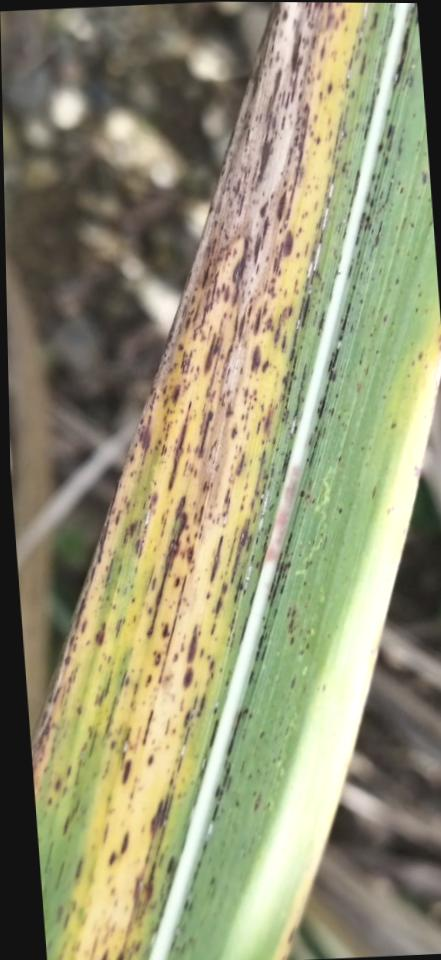RedRot: (262, 465, 303, 564)
Rust: (114, 798, 164, 960), (182, 763, 232, 910), (300, 157, 339, 329), (144, 510, 187, 637), (138, 793, 173, 920), (316, 301, 350, 421), (250, 67, 282, 193), (156, 574, 188, 685), (283, 102, 310, 231), (165, 400, 192, 494), (175, 692, 198, 773), (254, 463, 275, 546), (390, 25, 413, 93), (230, 237, 252, 308), (287, 362, 307, 440), (203, 332, 223, 409), (228, 518, 250, 584), (218, 314, 238, 381), (280, 355, 298, 423), (222, 710, 242, 769), (288, 295, 305, 363), (191, 289, 210, 344), (361, 86, 379, 140), (60, 796, 82, 838), (265, 551, 282, 602), (208, 534, 224, 584), (330, 110, 344, 165), (317, 175, 331, 230), (197, 410, 213, 458), (289, 55, 304, 105), (290, 18, 303, 75), (268, 561, 284, 607), (138, 415, 151, 467), (103, 694, 119, 736), (252, 449, 266, 497), (170, 495, 186, 536), (336, 102, 349, 152), (118, 725, 132, 770), (356, 3, 369, 48), (241, 552, 254, 596), (306, 429, 320, 469), (343, 43, 355, 89), (140, 708, 154, 747), (303, 249, 315, 294), (348, 168, 361, 209), (225, 526, 238, 567), (327, 267, 341, 304), (157, 791, 169, 829), (41, 840, 54, 875), (278, 561, 291, 595), (186, 625, 197, 664), (263, 399, 274, 438), (241, 394, 252, 433), (353, 211, 365, 246), (93, 619, 107, 649), (209, 271, 219, 312), (259, 216, 270, 252), (281, 449, 292, 484), (102, 557, 114, 589), (384, 123, 396, 154), (249, 344, 261, 375), (257, 546, 268, 579), (208, 718, 220, 748), (200, 258, 211, 290), (194, 692, 207, 719), (276, 188, 286, 223), (273, 241, 283, 276), (179, 350, 193, 375), (252, 634, 264, 663), (237, 615, 249, 644), (86, 728, 97, 759), (144, 562, 155, 593), (272, 313, 282, 347), (102, 669, 113, 699), (252, 305, 262, 338), (120, 759, 132, 786), (261, 522, 271, 554), (159, 507, 169, 538), (53, 861, 64, 889), (237, 308, 245, 346), (356, 52, 368, 77), (232, 573, 242, 603), (181, 667, 194, 690), (235, 450, 246, 477), (282, 230, 293, 257), (262, 94, 272, 123), (88, 934, 99, 960), (127, 775, 138, 801), (373, 219, 383, 247), (316, 309, 326, 337), (132, 725, 142, 753), (253, 232, 261, 267), (221, 497, 230, 528), (281, 370, 290, 401), (118, 831, 129, 856), (73, 758, 82, 787), (311, 2, 324, 22), (100, 821, 111, 844), (237, 191, 246, 218), (250, 791, 261, 813), (118, 668, 128, 692), (58, 681, 67, 707), (283, 531, 293, 554), (65, 669, 74, 694), (318, 35, 326, 63), (164, 856, 175, 876), (258, 199, 269, 219), (395, 135, 404, 159), (273, 91, 282, 115), (73, 859, 83, 880), (93, 688, 104, 707), (384, 181, 393, 204), (227, 631, 236, 654), (213, 596, 222, 619), (181, 708, 191, 728), (101, 759, 111, 779), (198, 411, 206, 436), (220, 283, 230, 303), (60, 912, 71, 930), (196, 503, 205, 525), (257, 481, 265, 505), (279, 329, 287, 353), (185, 543, 194, 564), (228, 610, 236, 633), (280, 451, 288, 474), (171, 384, 179, 407), (326, 351, 334, 373), (283, 90, 291, 112), (133, 900, 142, 919), (113, 508, 122, 527), (55, 904, 65, 921), (51, 687, 61, 704), (386, 18, 394, 39), (286, 146, 294, 167), (148, 392, 156, 413), (323, 14, 334, 29), (224, 775, 233, 793), (367, 484, 377, 500), (144, 753, 154, 769), (114, 618, 122, 638), (159, 623, 169, 639), (129, 519, 137, 539), (266, 284, 276, 300), (208, 236, 216, 256), (121, 526, 128, 548), (288, 673, 297, 690), (278, 89, 286, 108), (245, 533, 252, 554), (222, 487, 229, 508), (245, 304, 252, 325), (259, 644, 267, 662), (357, 348, 365, 366), (107, 850, 115, 868), (163, 718, 171, 736), (247, 590, 255, 608), (143, 673, 152, 689), (282, 409, 290, 427), (225, 402, 234, 418), (100, 946, 110, 960), (137, 539, 144, 559), (205, 324, 212, 344), (279, 563, 287, 580), (371, 11, 379, 28), (211, 699, 219, 716), (400, 76, 409, 91), (237, 758, 246, 773), (367, 242, 374, 261), (181, 459, 188, 478), (193, 365, 200, 384), (286, 618, 294, 634), (311, 309, 318, 327), (261, 299, 268, 317), (244, 129, 251, 147), (206, 875, 216, 887), (53, 776, 61, 791), (64, 764, 72, 779), (131, 682, 139, 697), (172, 575, 180, 590), (149, 576, 157, 591), (153, 651, 161, 666), (254, 419, 261, 436), (71, 666, 78, 683), (305, 2, 312, 19), (242, 387, 248, 406), (330, 367, 337, 383), (375, 141, 383, 155), (406, 75, 414, 89), (341, 225, 348, 241), (325, 81, 333, 95), (280, 9, 288, 23), (301, 37, 309, 51), (168, 770, 174, 788), (136, 518, 142, 536), (270, 257, 276, 275), (213, 783, 220, 798), (209, 622, 216, 637), (275, 748, 282, 763), (80, 619, 87, 634), (230, 426, 237, 441), (262, 278, 269, 293), (197, 646, 205, 659), (270, 608, 278, 621), (250, 511, 258, 524), (264, 317, 272, 330), (247, 669, 253, 686), (292, 277, 298, 294), (224, 367, 230, 384), (214, 287, 220, 304), (261, 359, 268, 373), (292, 134, 299, 148), (134, 539, 140, 555), (217, 318, 223, 334), (420, 172, 427, 185), (400, 216, 407, 229), (240, 727, 247, 740), (75, 703, 82, 716), (171, 651, 178, 664), (270, 117, 277, 130), (346, 264, 352, 279), (303, 241, 308, 259), (340, 7, 346, 22), (257, 729, 265, 740), (63, 655, 71, 666), (320, 426, 326, 440), (414, 140, 420, 154), (191, 511, 198, 523), (220, 582, 227, 594), (189, 560, 195, 574), (201, 480, 207, 494), (312, 200, 318, 214), (310, 36, 316, 50), (340, 161, 347, 173), (161, 396, 168, 408), (415, 351, 423, 361), (307, 434, 313, 447), (285, 606, 291, 619), (249, 499, 255, 512), (159, 443, 165, 456), (353, 48, 359, 61), (316, 90, 322, 103), (327, 128, 333, 141), (207, 659, 214, 670), (186, 901, 193, 912), (335, 453, 342, 464), (45, 796, 52, 807), (109, 740, 116, 751), (123, 676, 130, 687), (127, 699, 134, 710), (70, 899, 77, 910), (179, 696, 184, 711), (280, 115, 285, 130), (241, 706, 249, 715), (289, 608, 297, 617), (288, 635, 294, 647), (364, 191, 370, 203), (368, 197, 374, 209), (382, 156, 388, 168), (389, 420, 397, 429), (363, 103, 369, 115), (353, 121, 359, 133), (224, 636, 230, 648), (116, 563, 122, 575), (139, 822, 145, 834), (287, 305, 293, 317), (315, 70, 321, 82), (303, 641, 310, 651), (381, 314, 388, 324), (319, 280, 324, 294), (246, 771, 253, 781), (296, 92, 303, 102), (220, 392, 225, 406), (204, 677, 210, 688), (355, 249, 361, 260), (357, 270, 363, 281), (132, 565, 138, 576), (205, 590, 211, 601), (71, 642, 77, 653), (96, 663, 102, 674), (105, 874, 111, 885), (311, 113, 317, 124), (314, 135, 320, 146), (254, 264, 260, 275), (332, 20, 338, 31), (159, 512, 164, 525), (326, 146, 331, 159), (303, 63, 308, 76), (267, 56, 272, 69), (185, 316, 190, 329), (84, 638, 91, 647), (112, 898, 119, 907), (128, 453, 135, 462), (385, 107, 391, 117), (378, 189, 384, 199), (395, 179, 400, 191), (363, 366, 369, 376), (388, 328, 394, 338), (345, 211, 350, 223), (336, 254, 341, 266), (223, 678, 229, 688), (105, 654, 111, 664), (179, 641, 184, 653), (87, 728, 92, 740), (257, 112, 262, 124), (325, 2, 332, 10), (177, 343, 184, 351), (263, 630, 268, 641), (304, 559, 309, 570), (320, 682, 325, 693), (192, 468, 197, 479), (282, 288, 287, 299), (326, 116, 331, 127), (298, 77, 303, 88), (190, 293, 195, 304), (312, 424, 318, 433), (298, 489, 304, 498), (246, 711, 252, 720), (108, 886, 114, 895), (365, 214, 370, 224), (398, 185, 403, 195), (372, 183, 377, 193), (394, 277, 399, 287), (329, 407, 334, 417), (292, 425, 297, 435), (185, 533, 190, 543), (350, 89, 355, 99), (297, 225, 302, 235), (388, 3, 393, 13), (240, 289, 245, 299), (337, 507, 343, 515), (205, 653, 211, 661), (146, 607, 152, 615), (150, 736, 156, 744), (306, 123, 312, 131), (294, 251, 300, 259), (270, 276, 276, 284), (254, 560, 259, 569), (197, 531, 202, 540), (238, 366, 243, 375), (264, 255, 269, 264), (269, 324, 274, 333), (245, 430, 249, 441), (275, 51, 279, 62), (394, 248, 400, 255), (426, 220, 432, 227), (349, 323, 353, 333), (366, 223, 371, 231), (370, 172, 374, 182), (375, 173, 380, 181), (378, 266, 382, 276), (238, 583, 243, 591), (206, 512, 211, 520), (163, 432, 167, 442), (252, 388, 257, 396), (276, 269, 281, 277), (288, 76, 292, 86), (305, 20, 310, 28), (162, 385, 166, 395), (271, 756, 275, 765), (180, 551, 184, 560), (215, 516, 219, 525), (163, 446, 167, 455), (271, 436, 275, 445), (314, 221, 318, 230), (335, 2, 341, 8), (270, 44, 274, 53), (226, 388, 230, 397), (315, 407, 320, 414), (317, 399, 322, 406), (262, 623, 267, 630), (299, 649, 304, 656), (411, 112, 416, 119), (129, 583, 134, 590), (151, 649, 156, 656), (181, 633, 186, 640), (170, 694, 175, 701), (308, 130, 313, 137), (260, 327, 265, 334), (306, 65, 311, 72), (249, 277, 254, 284), (139, 418, 144, 425), (209, 672, 213, 680), (413, 254, 417, 262), (171, 727, 175, 735), (121, 618, 125, 626), (193, 531, 197, 539), (222, 311, 226, 319), (343, 25, 347, 33), (306, 76, 310, 84), (247, 113, 251, 121), (162, 414, 166, 422), (234, 800, 239, 806), (130, 597, 135, 603), (170, 785, 175, 791), (164, 743, 169, 749), (227, 313, 232, 319), (359, 298, 363, 305), (252, 789, 256, 796), (363, 224, 367, 231), (302, 579, 306, 586), (410, 222, 414, 229), (334, 392, 338, 399), (394, 225, 398, 232), (314, 270, 318, 277), (256, 768, 260, 775), (197, 630, 201, 637), (248, 457, 252, 464), (104, 565, 108, 572), (199, 525, 203, 532), (240, 414, 244, 421), (278, 227, 282, 234), (304, 2, 308, 9), (309, 23, 313, 30), (243, 280, 247, 287), (157, 438, 161, 445), (132, 614, 135, 623), (166, 422, 169, 431), (249, 295, 252, 304), (338, 318, 343, 323), (232, 455, 237, 460), (304, 457, 308, 463), (261, 615, 265, 621), (390, 173, 394, 179), (401, 127, 405, 133), (374, 349, 378, 355), (336, 414, 340, 420), (414, 307, 418, 313), (417, 292, 421, 298), (343, 183, 347, 189), (380, 203, 384, 209), (74, 635, 78, 641), (189, 466, 193, 472), (252, 397, 256, 403), (129, 471, 133, 477), (193, 681, 196, 688), (370, 228, 373, 235), (238, 445, 241, 452), (209, 481, 212, 488), (254, 114, 257, 121), (350, 257, 354, 262), (416, 283, 420, 288), (370, 277, 374, 282), (347, 189, 351, 194), (316, 273, 320, 278), (165, 632, 169, 637), (205, 485, 209, 490), (308, 560, 311, 566), (317, 298, 320, 304), (87, 725, 90, 731), (211, 518, 214, 524), (166, 355, 169, 361), (355, 261, 359, 265), (381, 151, 384, 156), (327, 408, 330, 413), (318, 277, 321, 282), (160, 622, 163, 627), (187, 465, 190, 470), (261, 440, 264, 445), (250, 405, 253, 410), (134, 442, 137, 447), (154, 445, 157, 450), (149, 449, 152, 454), (352, 285, 355, 289), (289, 552, 293, 555), (297, 553, 301, 556), (314, 289, 316, 294), (285, 554, 288, 557), (312, 297, 315, 300), (163, 353, 165, 357), (311, 304, 313, 307)
